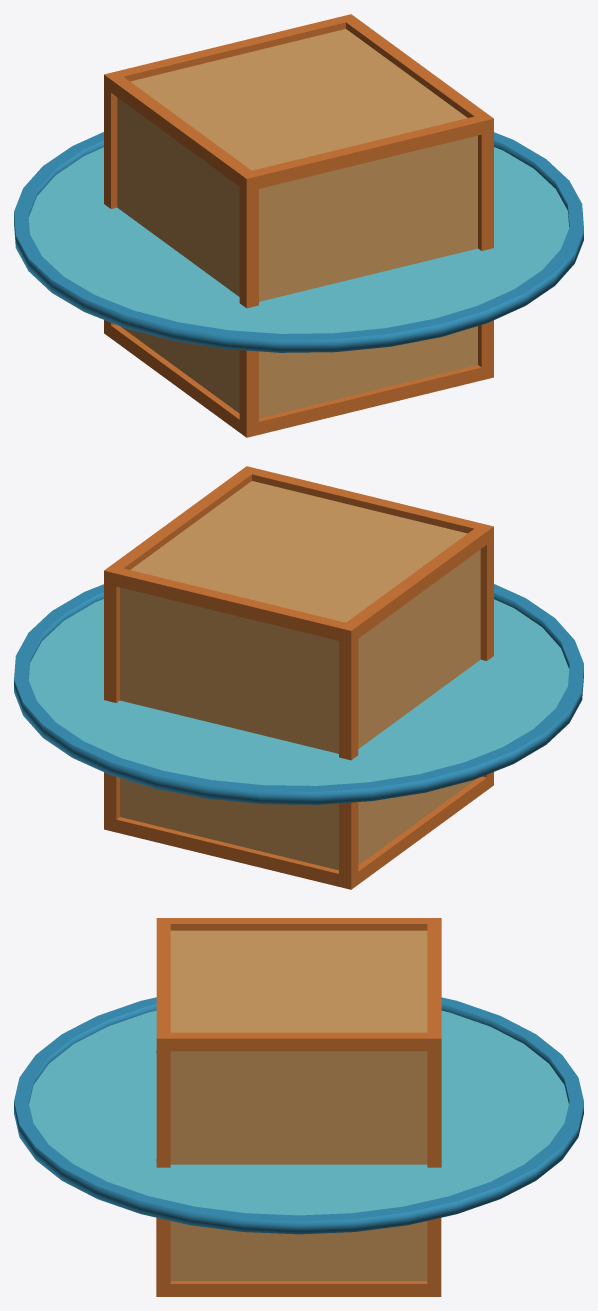
File: manipulationGizmo.fbx
3 views of the same model, one above another, from view 1: azimuth 30°, elevation 25°; view 2: azimuth 150°, elevation 25°; view 3: azimuth 270°, elevation 25° (orthographic).
Parts seen in each view (by area): view 1: InnerCube, InnerRing, OuterCube, OuterRing; view 2: InnerCube, InnerRing, OuterCube, OuterRing; view 3: InnerCube, InnerRing, OuterCube, OuterRing.
Boxes of the visible parts, <box> form: InnerCube: <box>117,29,477,418</box>; InnerRing: <box>28,147,569,333</box>; OuterCube: <box>104,14,493,437</box>; OuterRing: <box>14,132,583,352</box>; InnerCube: <box>120,481,480,870</box>; InnerRing: <box>28,599,569,785</box>; OuterCube: <box>104,466,493,889</box>; OuterRing: <box>14,584,583,804</box>; InnerCube: <box>170,930,427,1280</box>; InnerRing: <box>29,1010,568,1215</box>; OuterCube: <box>156,918,441,1296</box>; OuterRing: <box>14,997,583,1234</box>.
Size of the model in its own units: 400 by 200 by 400.
